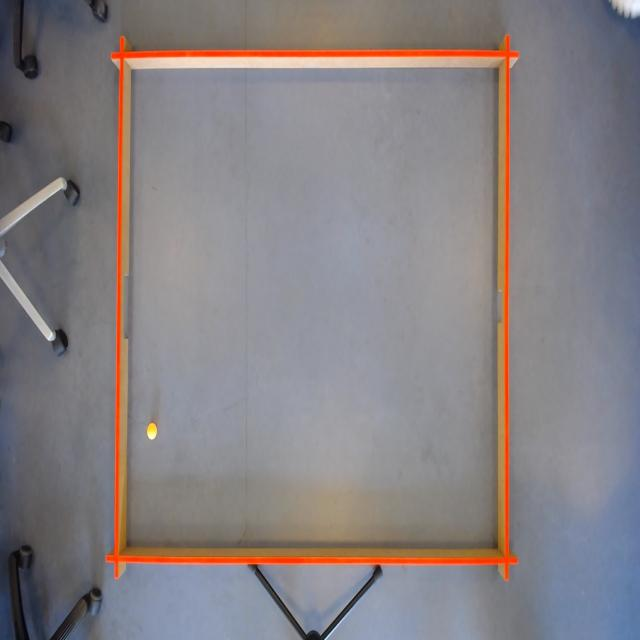orange_ball: (146, 421, 158, 444)
